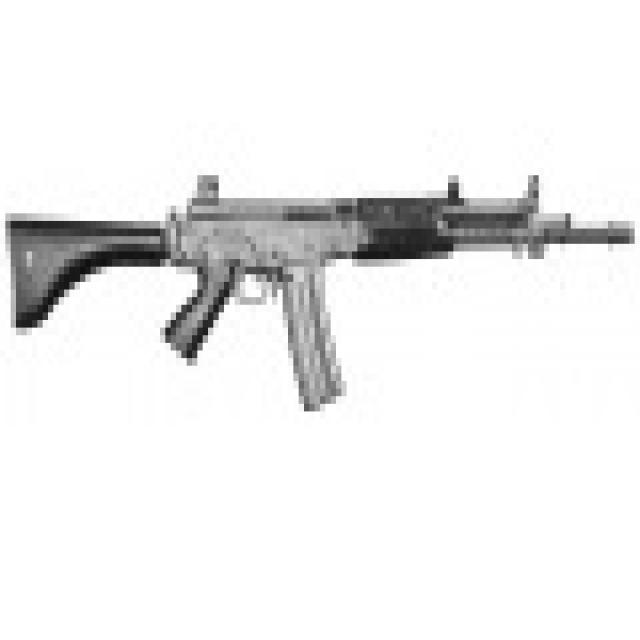Gun: (0, 128, 640, 418)
